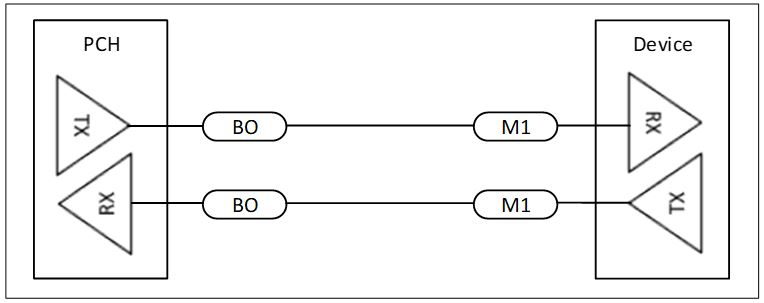oval: (201, 188, 288, 222), (201, 111, 289, 143), (473, 112, 557, 144), (470, 190, 559, 220)
rectangle: (31, 16, 170, 285), (593, 19, 731, 282)
triangle: (52, 75, 135, 176), (57, 150, 136, 256), (625, 151, 705, 255), (628, 70, 705, 175)
